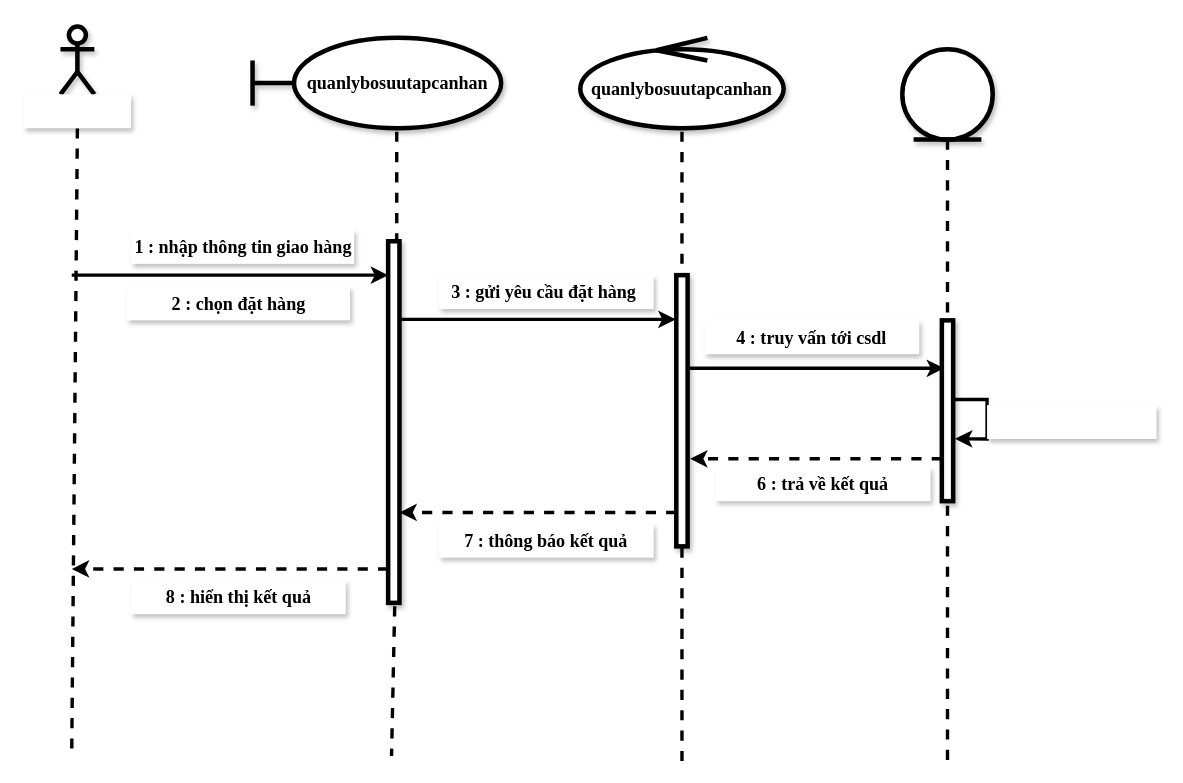
Some shapes in this 1183 by 783 pixel diagram are drawn without their labels. The shapes that lost their labels are listed below. From the top down, each one's centre as x and y in pixels, then its label:
At pixel 78 61: "Actor".
At pixel 78 112: "khachhang".
At pixel 948 95: "csdl".
At pixel 1072 423: "5: kiểm tra dữ liệu".
